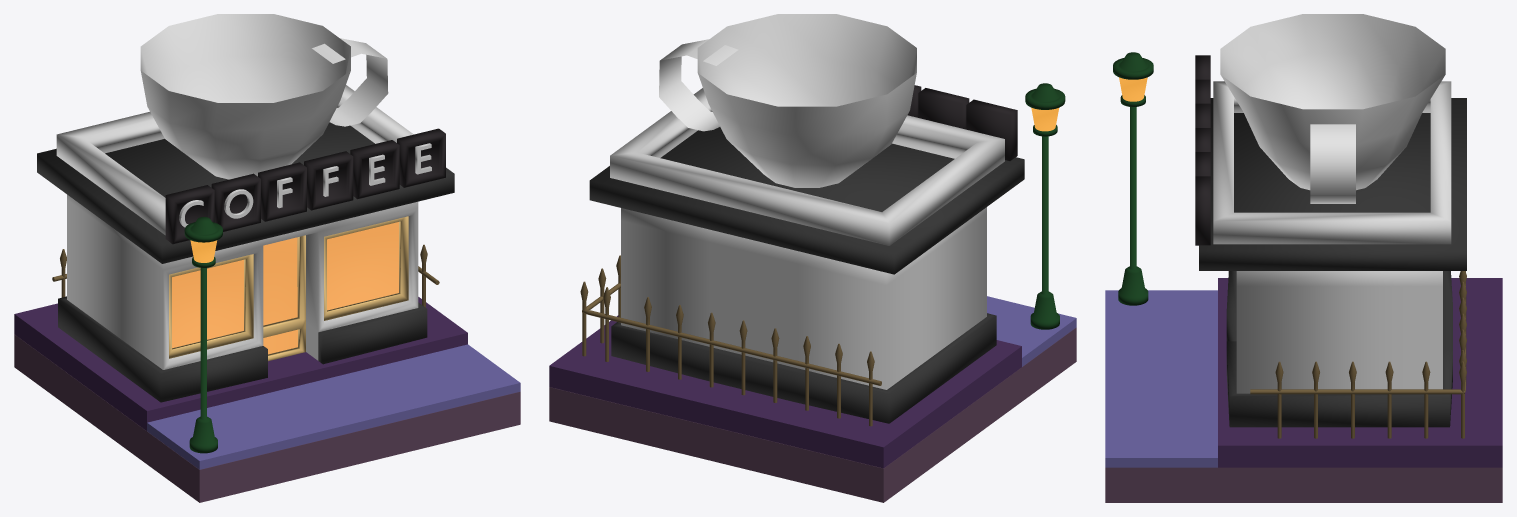
The model's file is bad.glb.
3 views of the same model, side by side, from view 1: azimuth 30°, elevation 25°; view 2: azimuth 150°, elevation 25°; view 3: azimuth 270°, elevation 25° (orthographic). The views are drawn at different scales.
Parts seen in each view (by area): view 1: Plane, Circle, Cube.001, Cube, Plane.001, Cube.002, Plane.004, Plane.002, Plane.003, Circle.002, Circle.001, Plane.009 (+6 smaller); view 2: Plane, Circle, Cube.002, Plane.001, Cube, Plane.002, Plane.004, Cube.005, Circle.002, Circle.001, Cube.001, Plane.006 (+2 smaller); view 3: Circle, Plane, Cube.001, Cube.002, Plane.001, Cube, Plane.002, Plane.004, Circle.001, Circle.002, Cube.005, BézierCurve (+1 smaller).
Boxes of the visible parts, box(x1,y1,x2,y2) form: Plane: box(67, 194, 418, 369); Circle: box(140, 14, 350, 179); Cube.001: box(147, 344, 520, 469); Cube: box(14, 334, 520, 502); Plane.001: box(37, 122, 454, 263); Cube.002: box(14, 297, 467, 430); Plane.004: box(58, 296, 427, 402); Plane.002: box(56, 85, 413, 235); Plane.003: box(169, 216, 408, 358); Circle.002: box(184, 217, 222, 453); Circle.001: box(312, 38, 388, 126); Plane.009: box(304, 151, 353, 210); Plane: box(621, 207, 986, 389); Circle: box(697, 14, 916, 187); Cube.002: box(549, 315, 1021, 468); Plane.001: box(589, 127, 1024, 274); Cube: box(549, 327, 1076, 502); Plane.002: box(610, 88, 1004, 245); Plane.004: box(611, 313, 996, 423); Cube.005: box(580, 255, 874, 426); Circle.002: box(1025, 83, 1065, 329); Circle.001: box(659, 39, 738, 131); Cube.001: box(987, 296, 1076, 366); Plane.006: box(966, 99, 1017, 160); Circle: box(1220, 14, 1445, 190); Plane: box(1236, 271, 1442, 393); Cube.001: box(1105, 290, 1217, 467); Cube.002: box(1218, 278, 1502, 467); Plane.001: box(1199, 98, 1466, 270); Cube: box(1105, 467, 1502, 502); Plane.002: box(1213, 81, 1451, 244); Plane.004: box(1226, 271, 1452, 427); Circle.001: box(1310, 124, 1355, 203); Circle.002: box(1113, 52, 1153, 305); Cube.005: box(1275, 271, 1466, 438); BézierCurve: box(1250, 271, 1466, 394).
Size of what is drawn, in the model's own units: 3.92 by 3.85 by 3.92.
